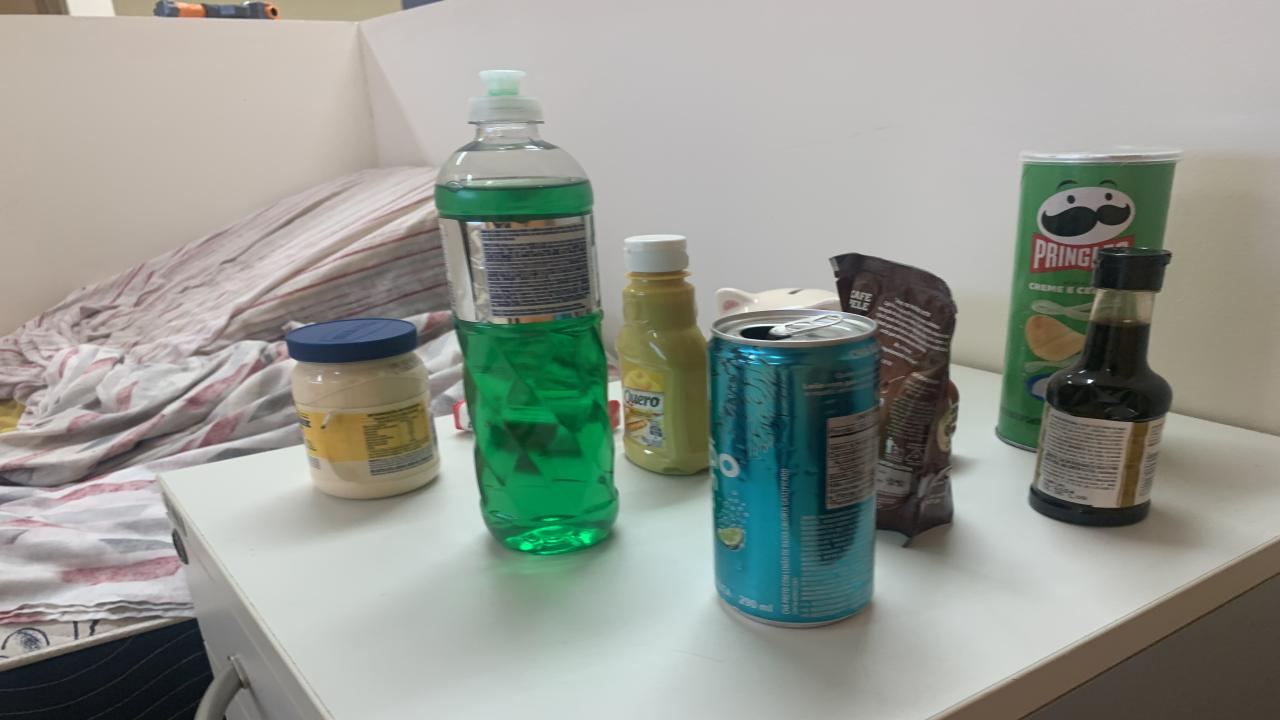Coffee-Pantry_Items: (830, 253, 958, 538)
Detergent-Cleanup_Items: (435, 71, 618, 555)
English_Sauce-Pantry_Items: (1030, 248, 1172, 525)
Mayonnaise-Pantry_Items: (285, 319, 440, 499)
Mustard-Pantry_Items: (615, 234, 708, 474)
Pig_Safe-Miscellaneous: (715, 287, 840, 317)
Pringles-Snacks: (998, 150, 1180, 450)
Soap-Cleanup_Items: (452, 399, 472, 431), (608, 399, 622, 429)
Tea-Drinks: (708, 309, 880, 626)
